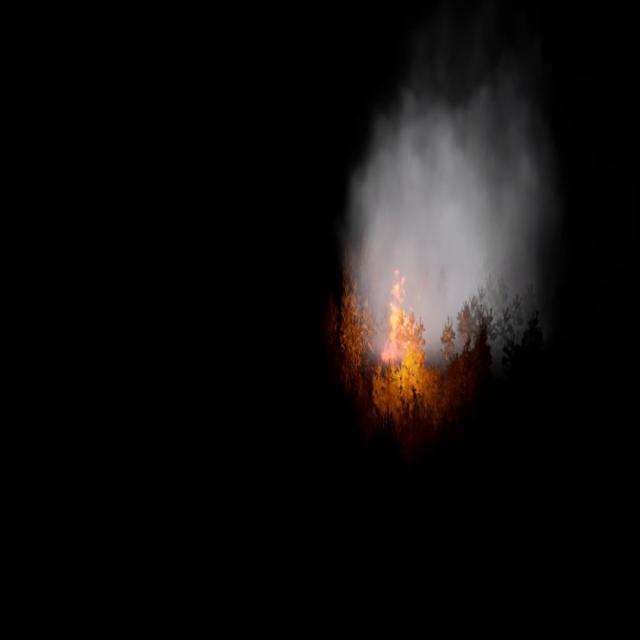fire: (378, 265, 422, 385)
smoke: (344, 56, 562, 374)
